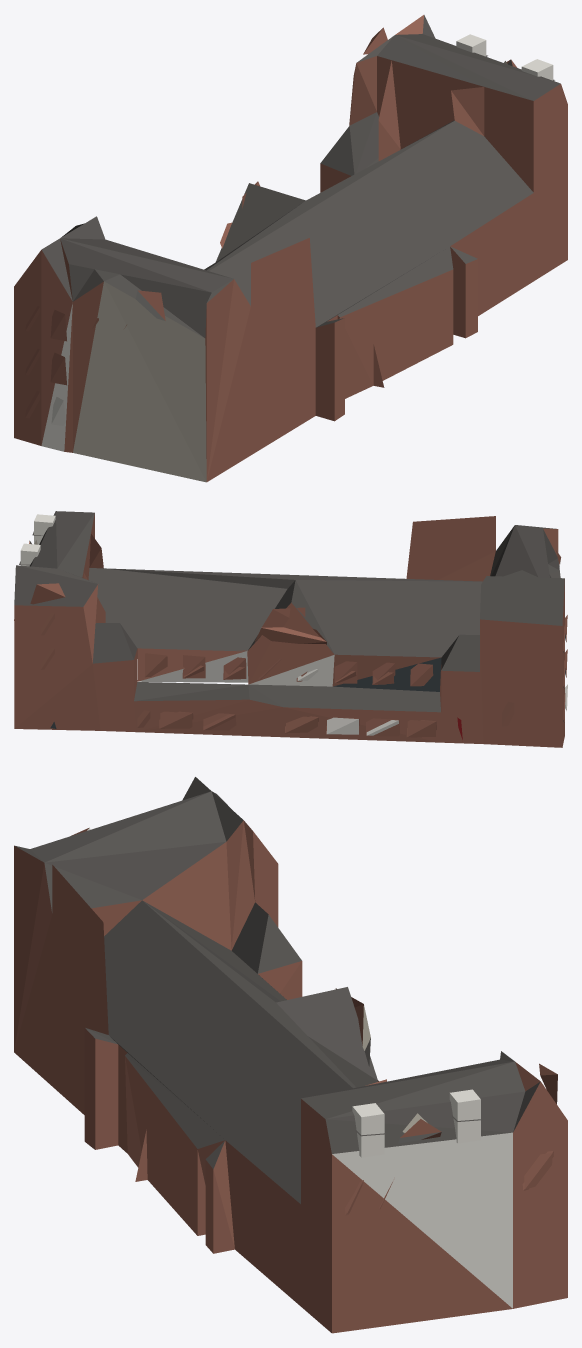
The model's file is krakeling-passeerdersstraat.lod2.glb.
The picture shows the model from 3 angles, top to bottom: view 1: azimuth 30°, elevation 25°; view 2: azimuth 150°, elevation 25°; view 3: azimuth 270°, elevation 25°; orthographic projection. The views are drawn at different scales.
Visible parts, largest first — view 1: lod2; view 2: lod2; view 3: lod2.
Part boxes in pixels (x1,y1,x2,y2): lod2: (14, 15, 567, 482); lod2: (14, 511, 567, 747); lod2: (14, 777, 567, 1333).
Size of the model in its own units: 55.49 by 17.99 by 38.56.
